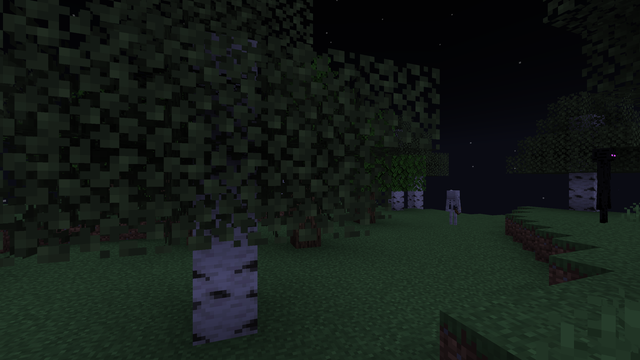endermens: (588, 144, 618, 223)
squelettes: (445, 190, 461, 225)
